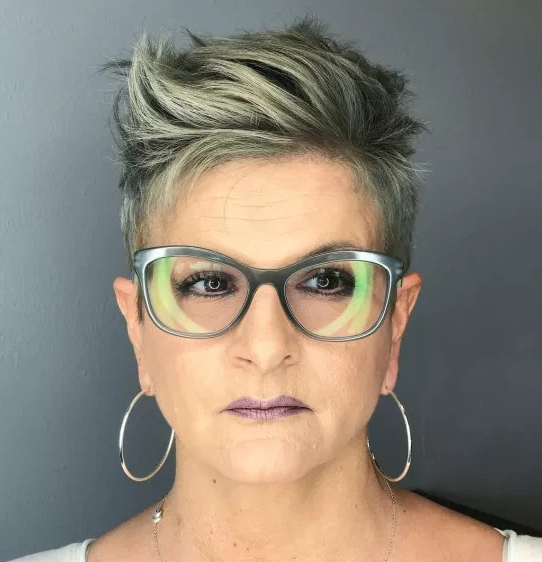glasses: (124, 231, 404, 345)
